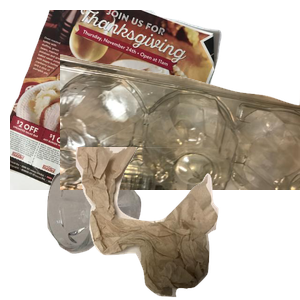glass: (44, 165, 178, 300)
paper: (10, 10, 224, 190)
plastic: (60, 52, 300, 232)
trash: (73, 147, 300, 300)
